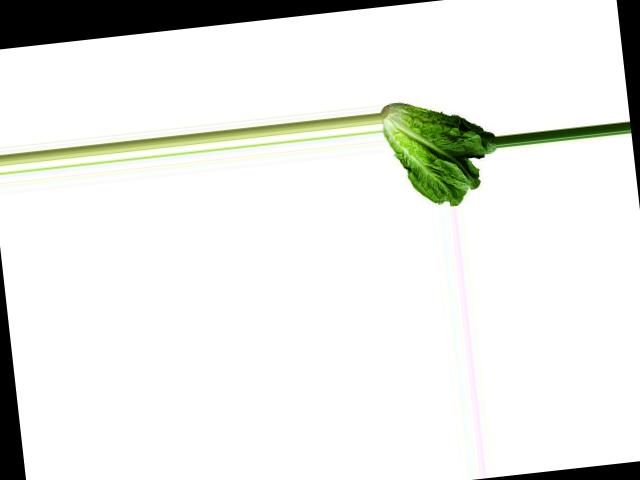lettuce: (381, 91, 500, 214)
